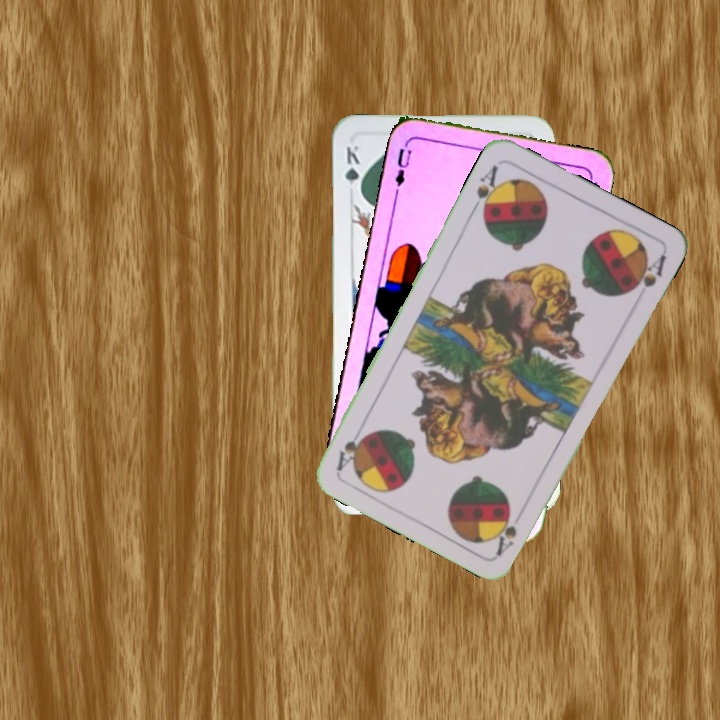EU: (391, 144, 414, 196)
GK: (341, 141, 364, 198)
SA: (468, 161, 504, 219), (491, 504, 528, 558)
